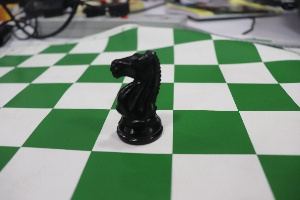black_horse: (99, 36, 169, 150)
